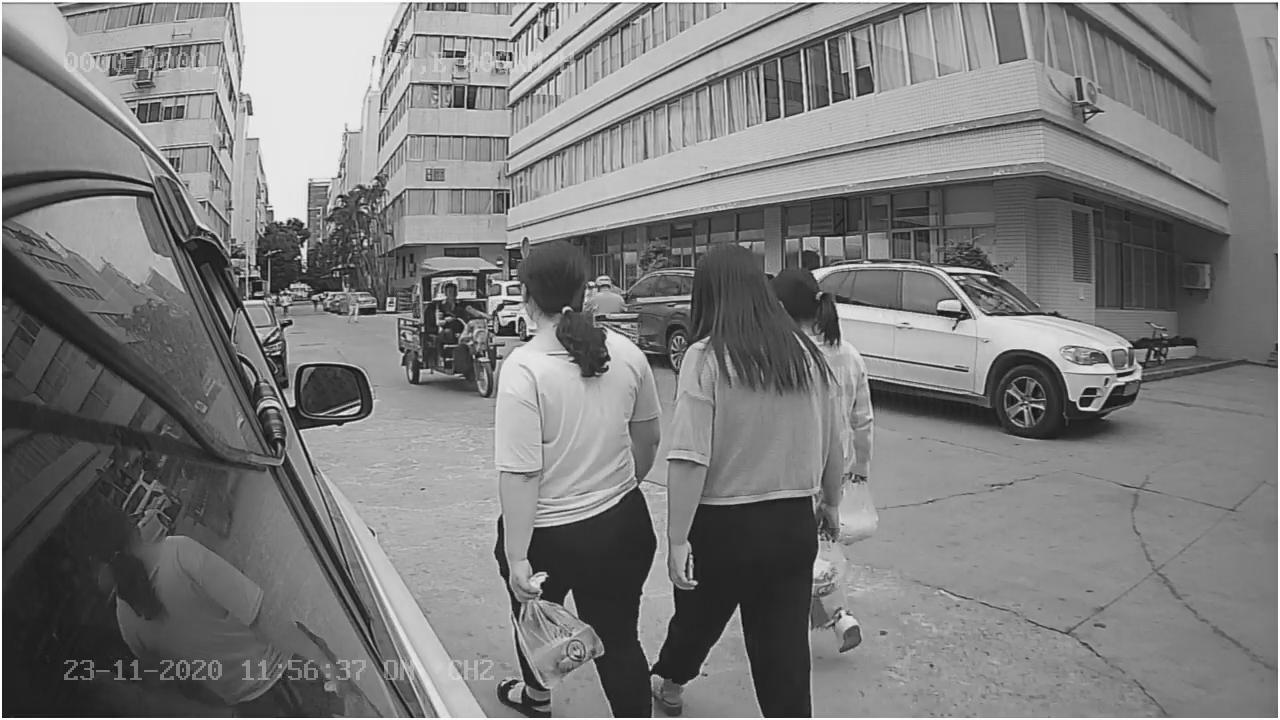person: (663, 230, 834, 718), (483, 234, 655, 718)
